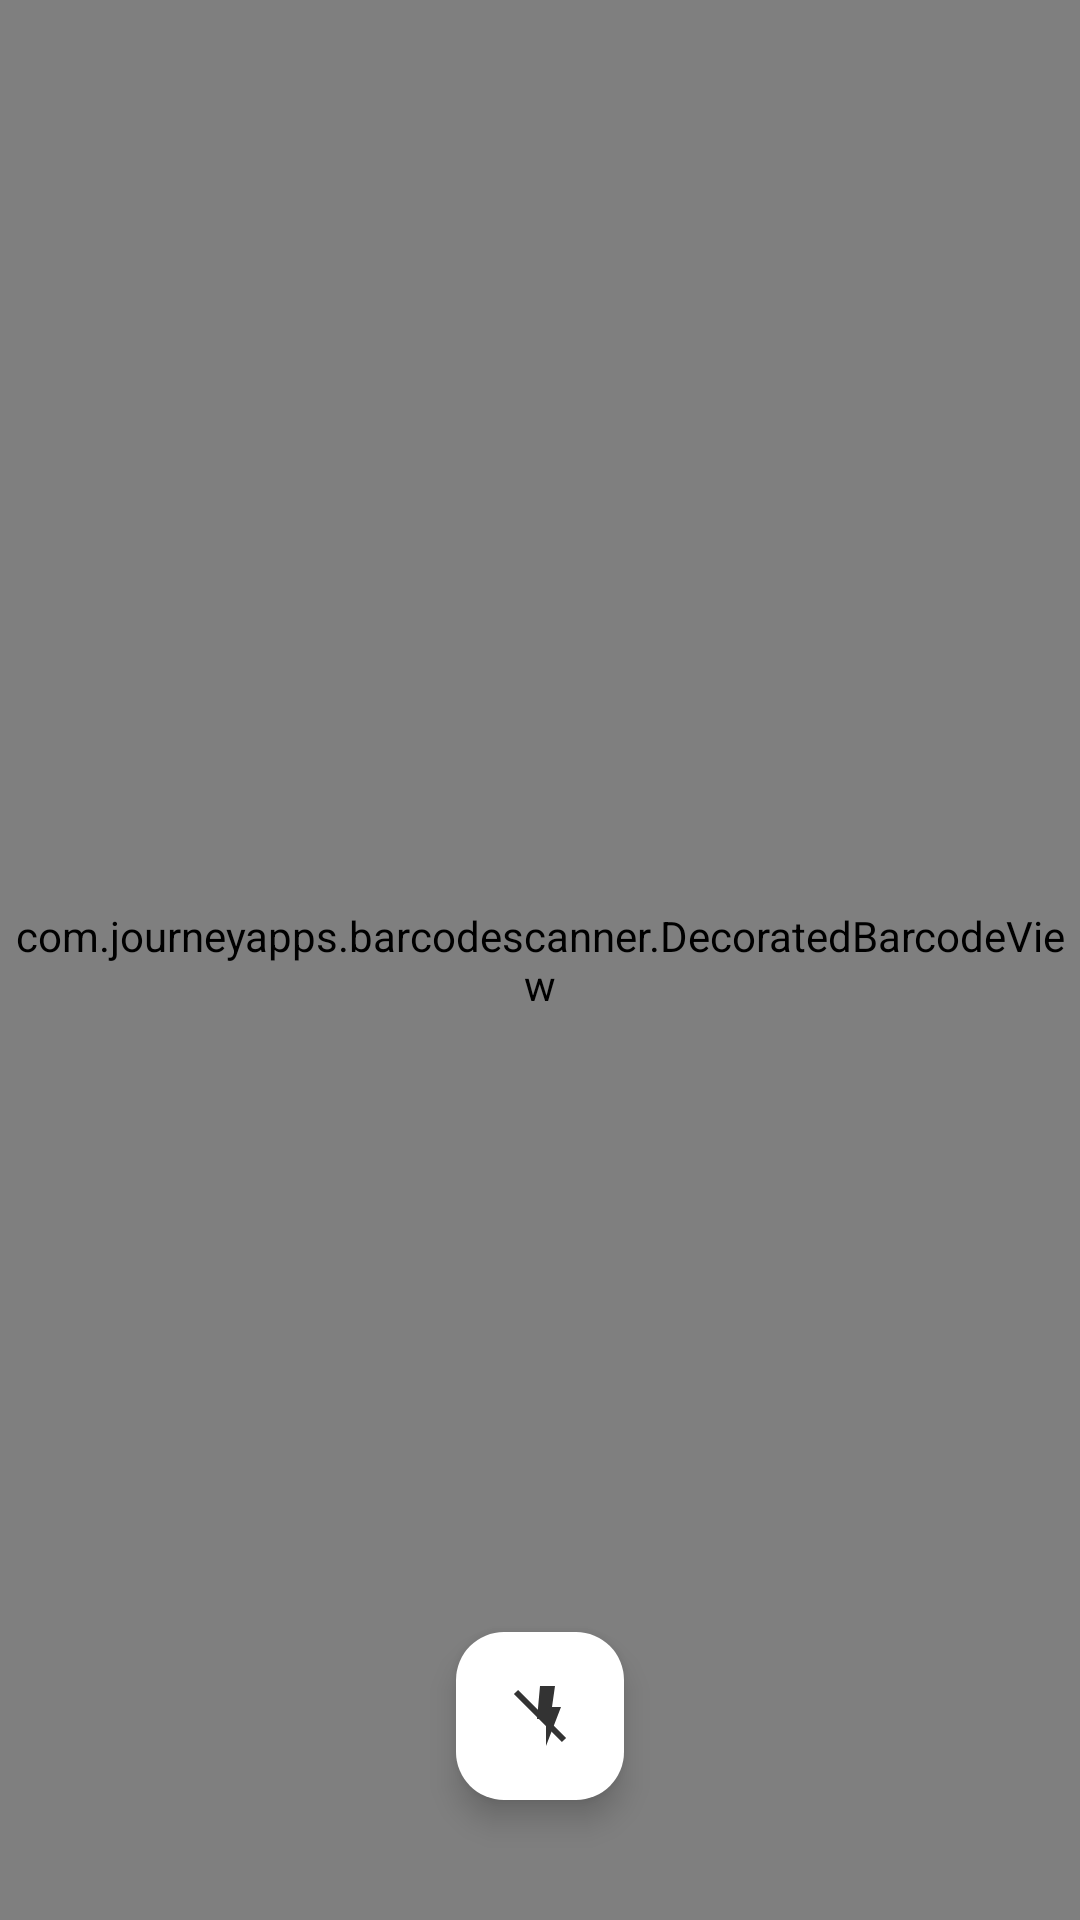

Screen size 1080px×1920px. Icon name, then its box in pixels as (x1, y1, x2, y2):
تشغيل الفلاش: (456, 1632, 624, 1800)
